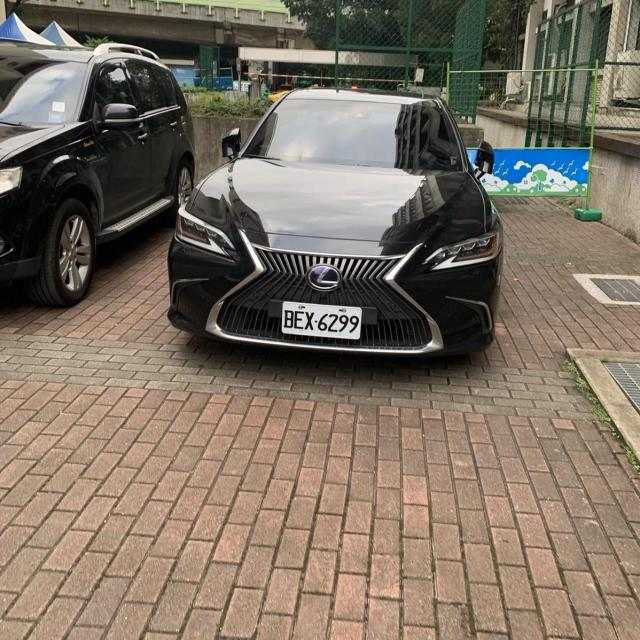W: (279, 299, 365, 346)
